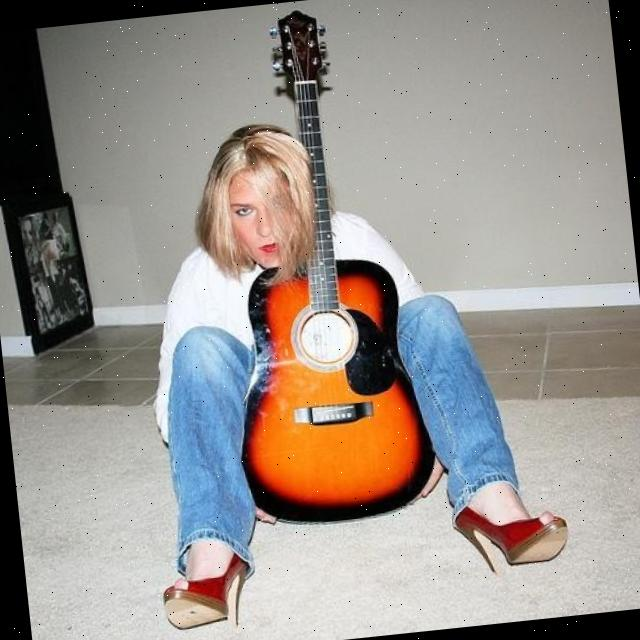guitar: (190, 0, 441, 535)
